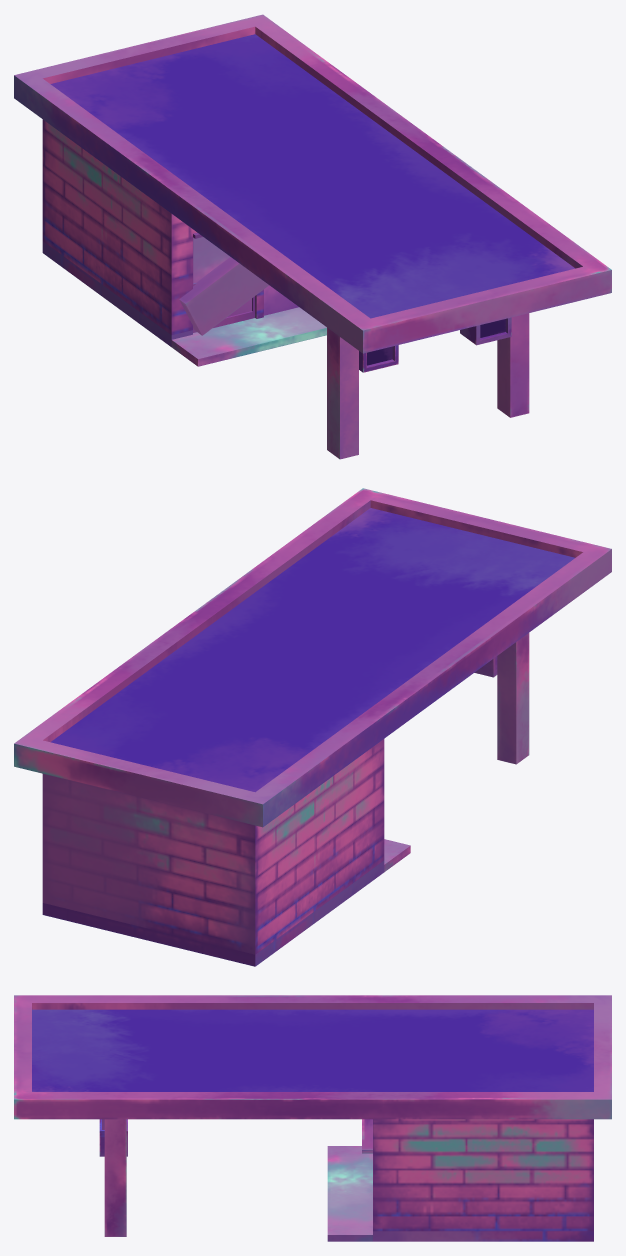
The model's file is SP_ARCH_GasStation_v01.fbx.
3 renders of one model, top to bottom at view 1: azimuth 30°, elevation 25°; view 2: azimuth 150°, elevation 25°; view 3: azimuth 270°, elevation 25°, orthographic. The views are drawn at different scales.
Visible parts, largest first — view 1: m_gastStationSuperposed; view 2: m_gastStationSuperposed; view 3: m_gastStationSuperposed.
Part boxes in pixels (bbox=[...]): m_gastStationSuperposed: bbox=[14, 14, 611, 459]; m_gastStationSuperposed: bbox=[14, 488, 611, 966]; m_gastStationSuperposed: bbox=[14, 995, 611, 1241].
Bounding box in the file's own units: 454 × 305 × 1102.
1 material, 1 textured.
